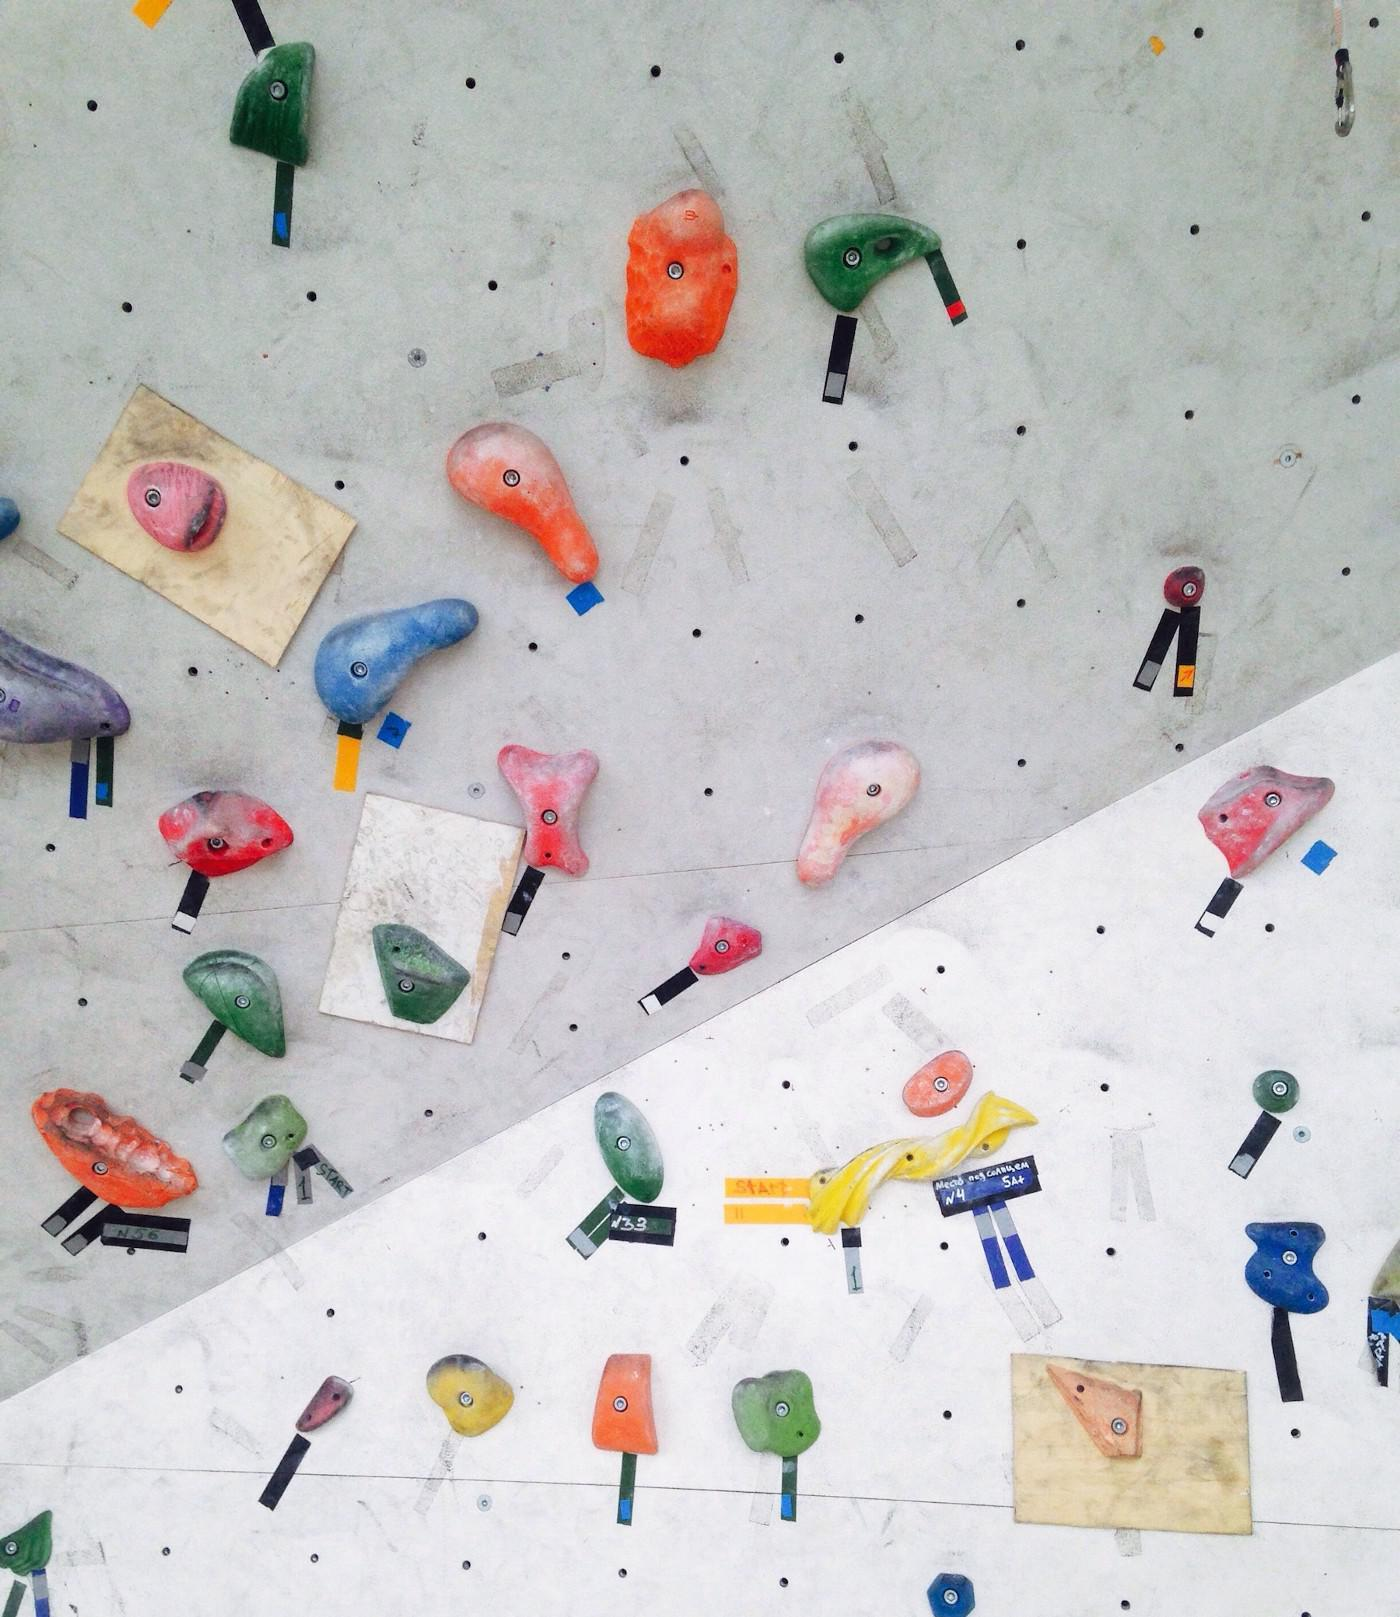hold: (805, 1090, 1041, 1237), (446, 423, 600, 584), (623, 187, 740, 367), (316, 597, 481, 723), (29, 1088, 199, 1210), (796, 738, 921, 890), (0, 624, 133, 745), (1198, 763, 1337, 879), (805, 212, 942, 313), (498, 742, 600, 879), (157, 789, 294, 879), (183, 950, 287, 1059), (230, 40, 315, 165), (371, 923, 470, 1023), (1045, 1364, 1143, 1460), (127, 462, 226, 549), (732, 1368, 824, 1457), (595, 1090, 666, 1204), (1245, 1221, 1330, 1313), (426, 1353, 514, 1438), (221, 1093, 308, 1178), (591, 1353, 659, 1457), (902, 1050, 972, 1119), (689, 912, 765, 975), (0, 1510, 54, 1576), (293, 1376, 355, 1433), (924, 1573, 975, 1617), (1253, 1070, 1301, 1112), (1372, 1235, 1400, 1308), (1163, 566, 1209, 606), (0, 496, 22, 540)
volume: (54, 381, 358, 667), (316, 795, 528, 1044), (1011, 1353, 1254, 1534)
